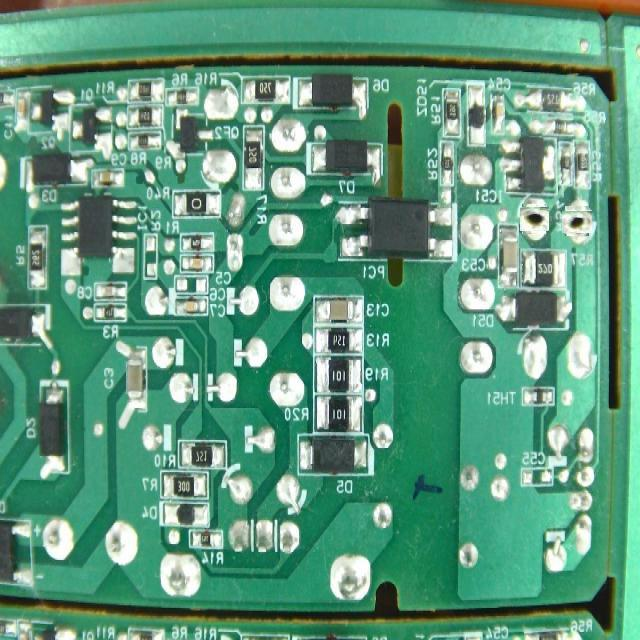damged: (520, 206, 548, 233), (564, 208, 591, 235)
